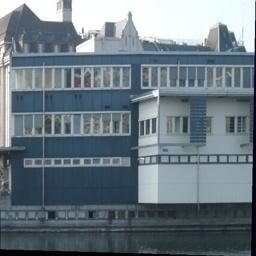building: (8, 2, 256, 204)
